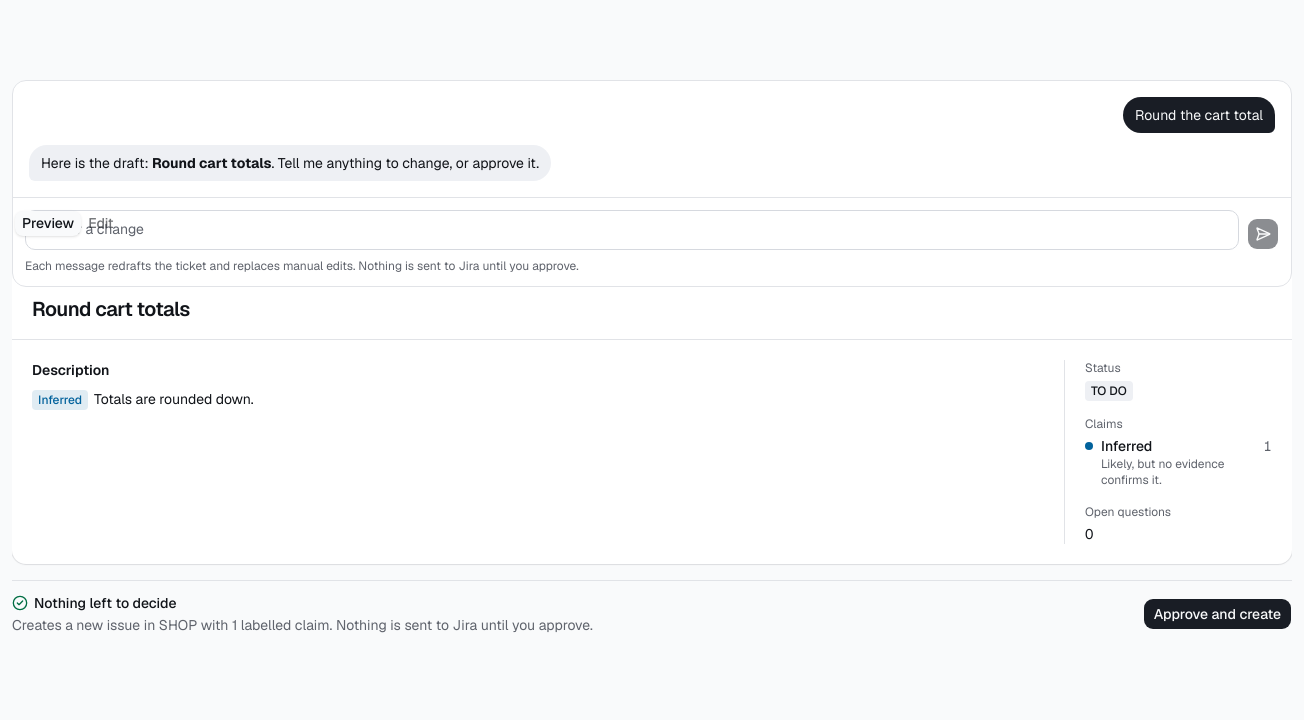
TicketChat › sends a message on Enter and shows the redraft in progress
Type "Round half up instead" into the text box labelled "Ask for a change" at (632, 230), box [25,210,1239,250]
Then press Enter
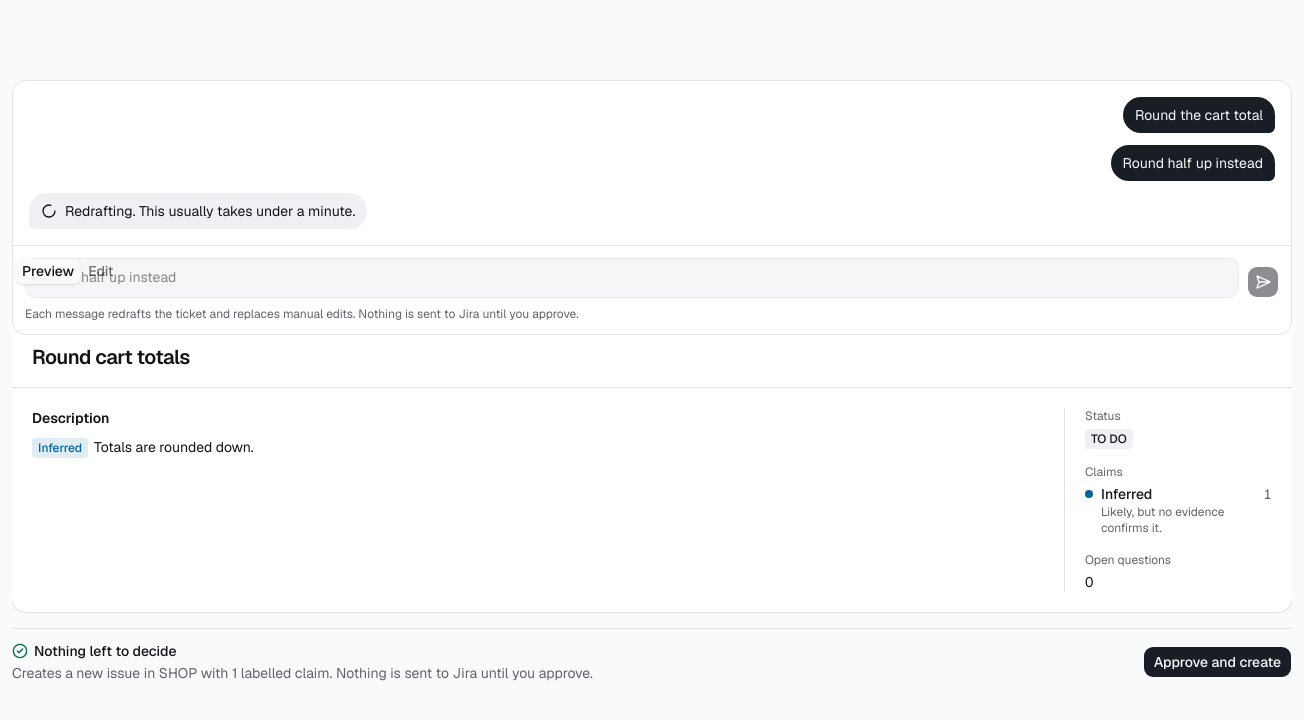
Expected: the button named "Send" is disabled, [1247,266,1279,298]
Now the text "Redrafting. This usually takes under a minute." is shown, box [41,201,355,221]
